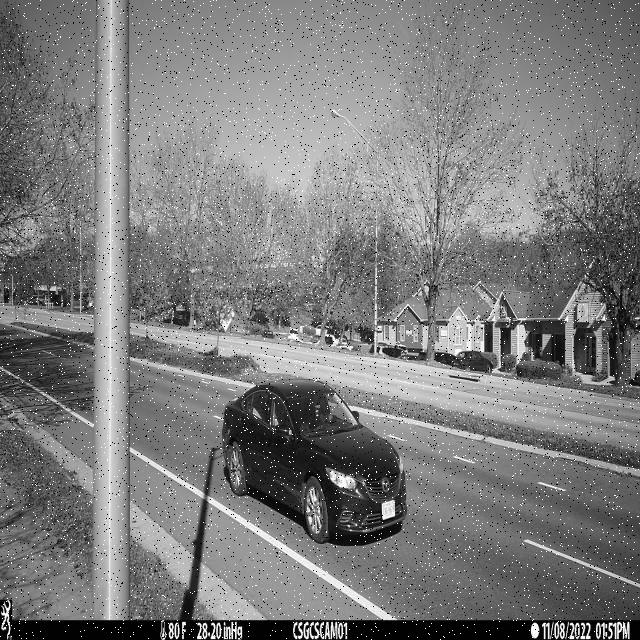Sedan: (222, 378, 408, 544)
